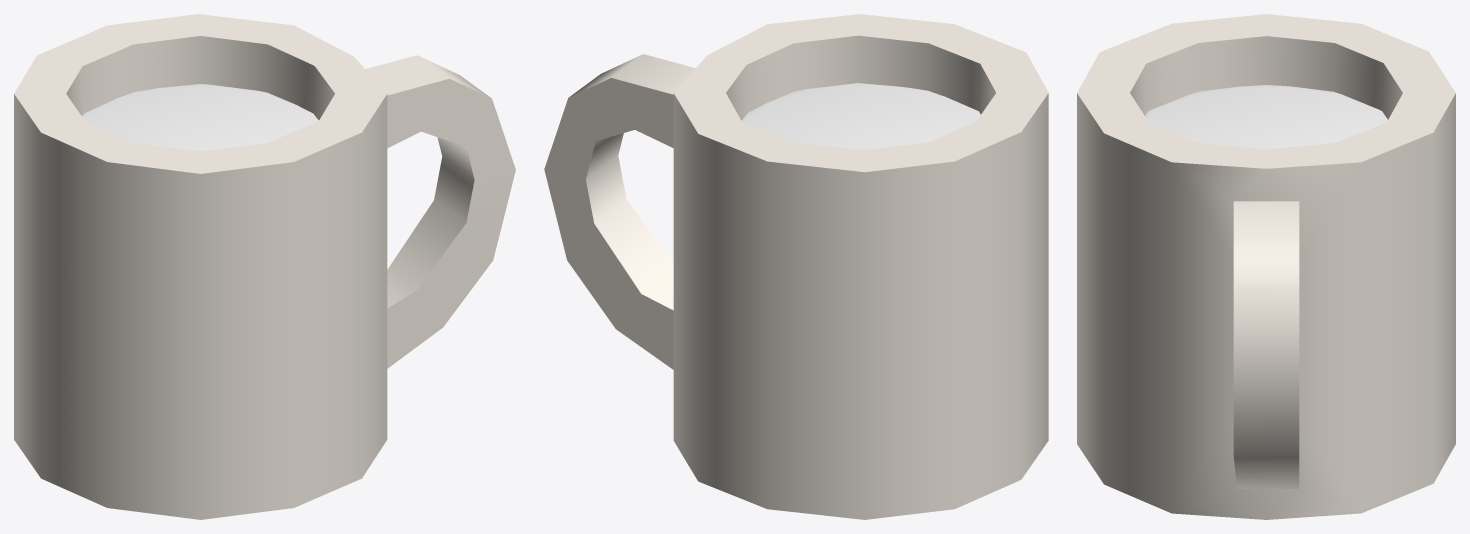
File: SM_Item_Mug_02.obj
3 views of the same model, side by side, from view 1: azimuth 30°, elevation 25°; view 2: azimuth 150°, elevation 25°; view 3: azimuth 270°, elevation 25° (orthographic).
Parts seen in each view (by area): view 1: SM_Item_Mug_02_Mat_SwatchOverlay_PolygonTown_01_Inst, SM_Item_Mug_02_M_water_unlit; view 2: SM_Item_Mug_02_Mat_SwatchOverlay_PolygonTown_01_Inst, SM_Item_Mug_02_M_water_unlit; view 3: SM_Item_Mug_02_Mat_SwatchOverlay_PolygonTown_01_Inst, SM_Item_Mug_02_M_water_unlit.
Boxes of the visible parts, <box> form: SM_Item_Mug_02_Mat_SwatchOverlay_PolygonTown_01_Inst: <box>14,14,515,519</box>; SM_Item_Mug_02_M_water_unlit: <box>82,84,318,151</box>; SM_Item_Mug_02_Mat_SwatchOverlay_PolygonTown_01_Inst: <box>544,14,1048,519</box>; SM_Item_Mug_02_M_water_unlit: <box>741,83,980,149</box>; SM_Item_Mug_02_Mat_SwatchOverlay_PolygonTown_01_Inst: <box>1077,14,1455,519</box>; SM_Item_Mug_02_M_water_unlit: <box>1145,85,1387,149</box>.
Size of the model in its own units: 0.2181 by 0.1572 by 0.1537.
Materials: 2 (1 with a texture image).
